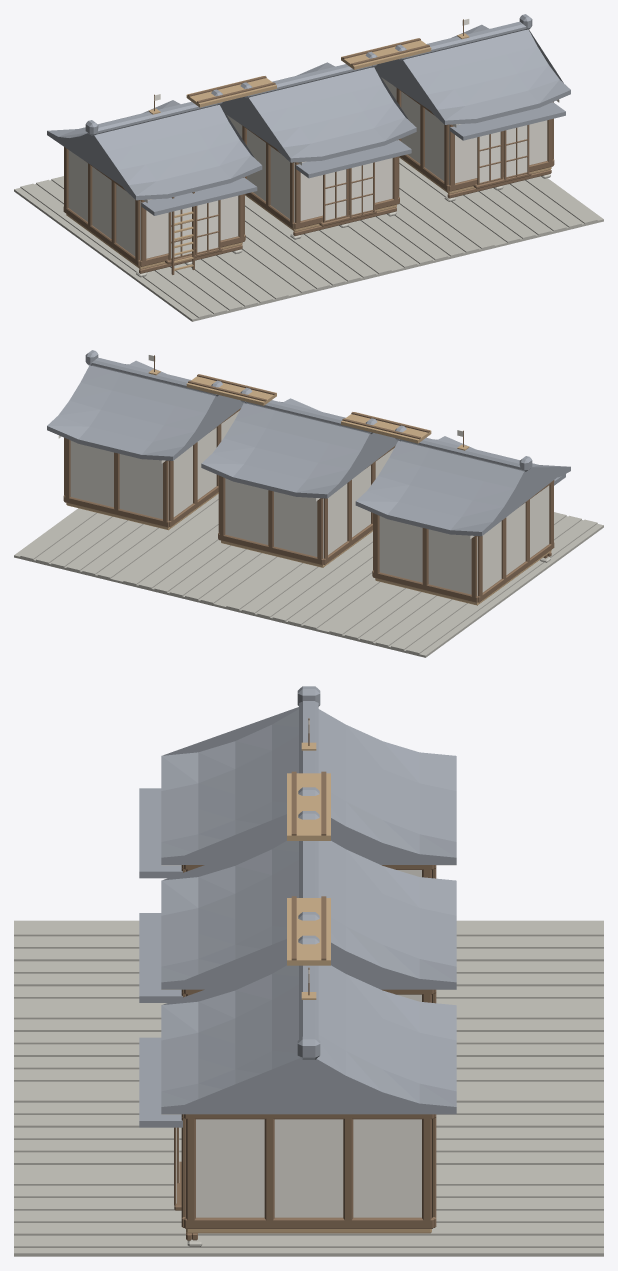
Rendered from feudal-japan-castle-town-stealth-rooftop-route-ca992c1e__26612.glb.
3 renders of one model, top to bottom at view 1: azimuth 30°, elevation 25°; view 2: azimuth 150°, elevation 25°; view 3: azimuth 270°, elevation 25°, orthographic. The views are drawn at different scales.
Visible parts, largest first — view 1: 000-townhouse-middle/4, 002-townhouse-middle/4, 001-townhouse-middle/4, 000-townhouse-middle/3, 013-stone-market-road/1, 016-stone-market-road/1, 019-stone-market-road/1, 010-stone-market-road/1, 000-townhouse-middle/1, 002-townhouse-middle/3, 001-townhouse-middle/3, 002-townhouse-middle/1 (+19 smaller); view 2: 000-townhouse-middle/4, 002-townhouse-middle/4, 001-townhouse-middle/4, 000-townhouse-middle/3, 002-townhouse-middle/3, 001-townhouse-middle/3, 014-stone-market-road/1, 011-stone-market-road/1, 008-stone-market-road/1, 017-stone-market-road/1, 000-townhouse-middle/1, 001-townhouse-middle/1 (+19 smaller); view 3: 002-townhouse-middle/4, 000-townhouse-middle/4, 001-townhouse-middle/4, 002-townhouse-middle/3, 017-stone-market-road/1, 019-stone-market-road/1, 014-stone-market-road/1, 008-stone-market-road/1, 011-stone-market-road/1, 016-stone-market-road/1, 002-townhouse-middle/1, 013-stone-market-road/1 (+16 smaller).
Part boxes in pixels (left/top/right/bottom): 000-townhouse-middle/4: left=47, top=89, right=262, bottom=215; 002-townhouse-middle/4: left=375, top=14, right=570, bottom=140; 001-townhouse-middle/4: left=220, top=51, right=416, bottom=178; 000-townhouse-middle/3: left=68, top=150, right=250, bottom=259; 013-stone-market-road/1: left=242, top=227, right=391, bottom=292; 016-stone-market-road/1: left=348, top=201, right=494, bottom=267; 019-stone-market-road/1: left=451, top=177, right=597, bottom=242; 010-stone-market-road/1: left=143, top=252, right=288, bottom=317; 000-townhouse-middle/1: left=63, top=147, right=245, bottom=273; 002-townhouse-middle/3: left=381, top=77, right=559, bottom=184; 001-townhouse-middle/3: left=227, top=115, right=404, bottom=222; 002-townhouse-middle/1: left=396, top=87, right=554, bottom=198; 000-townhouse-middle/4: left=355, top=425, right=570, bottom=536; 002-townhouse-middle/4: left=47, top=350, right=243, bottom=460; 001-townhouse-middle/4: left=201, top=387, right=397, bottom=498; 000-townhouse-middle/3: left=367, top=485, right=549, bottom=595; 002-townhouse-middle/3: left=58, top=410, right=239, bottom=520; 001-townhouse-middle/3: left=213, top=448, right=393, bottom=558; 014-stone-market-road/1: left=123, top=537, right=272, bottom=603; 011-stone-market-road/1: left=226, top=562, right=375, bottom=628; 008-stone-market-road/1: left=329, top=587, right=478, bottom=653; 017-stone-market-road/1: left=20, top=512, right=169, bottom=578; 000-townhouse-middle/1: left=372, top=480, right=554, bottom=602; 001-townhouse-middle/1: left=218, top=445, right=395, bottom=565; 002-townhouse-middle/4: left=139, top=935, right=456, bottom=1127; 000-townhouse-middle/4: left=139, top=686, right=456, bottom=878; 001-townhouse-middle/4: left=139, top=811, right=456, bottom=1002; 002-townhouse-middle/3: left=161, top=1114, right=456, bottom=1217; 017-stone-market-road/1: left=407, top=1173, right=603, bottom=1247; 019-stone-market-road/1: left=14, top=1173, right=210, bottom=1247; 014-stone-market-road/1: left=436, top=1090, right=603, bottom=1164; 008-stone-market-road/1: left=436, top=924, right=603, bottom=998; 011-stone-market-road/1: left=456, top=1007, right=603, bottom=1081; 016-stone-market-road/1: left=14, top=1090, right=181, bottom=1164; 002-townhouse-middle/1: left=174, top=1114, right=436, bottom=1240; 013-stone-market-road/1: left=14, top=1007, right=161, bottom=1081.
Bounding box in the file's own units: 17.2 × 5.55 × 12.
